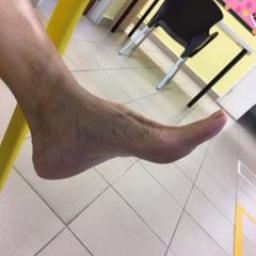Medial View -Left Foot-: (11, 58, 239, 200)
